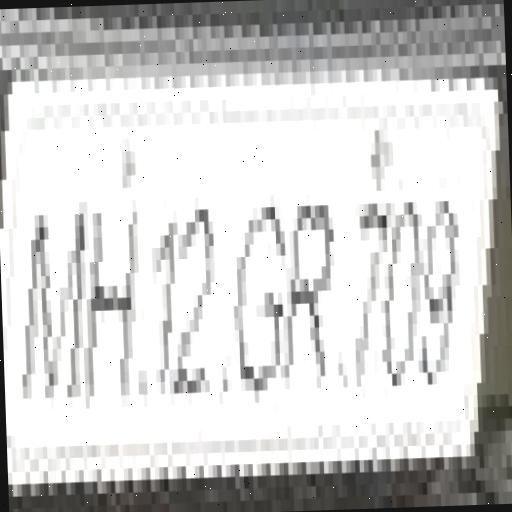number plate: (0, 101, 501, 472)
